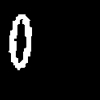chain: (9, 15, 31, 69)
